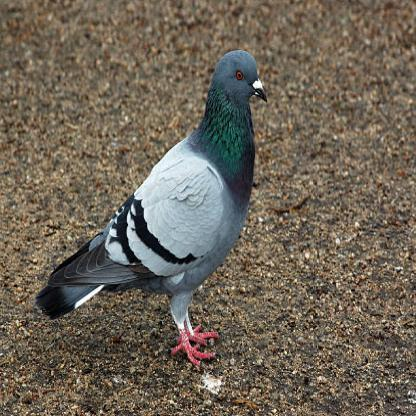Rock Pigeon: (55, 47, 274, 325)
